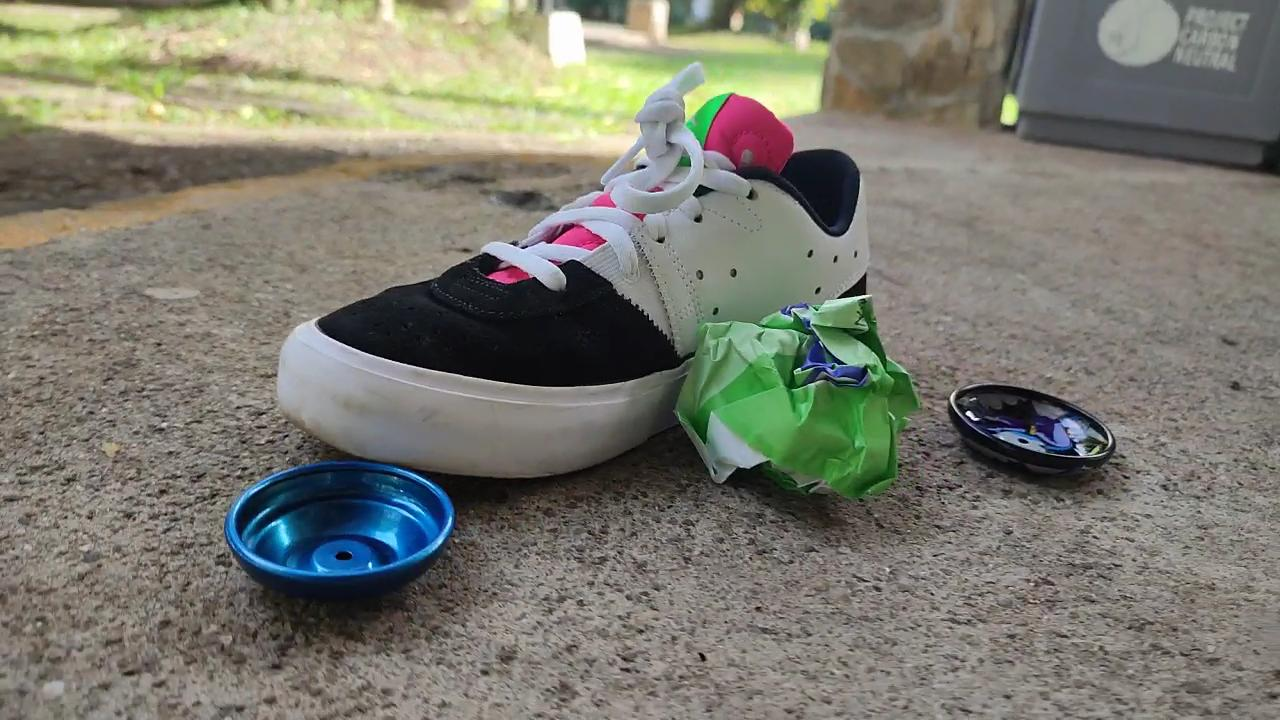Paper: (663, 268, 929, 517)
